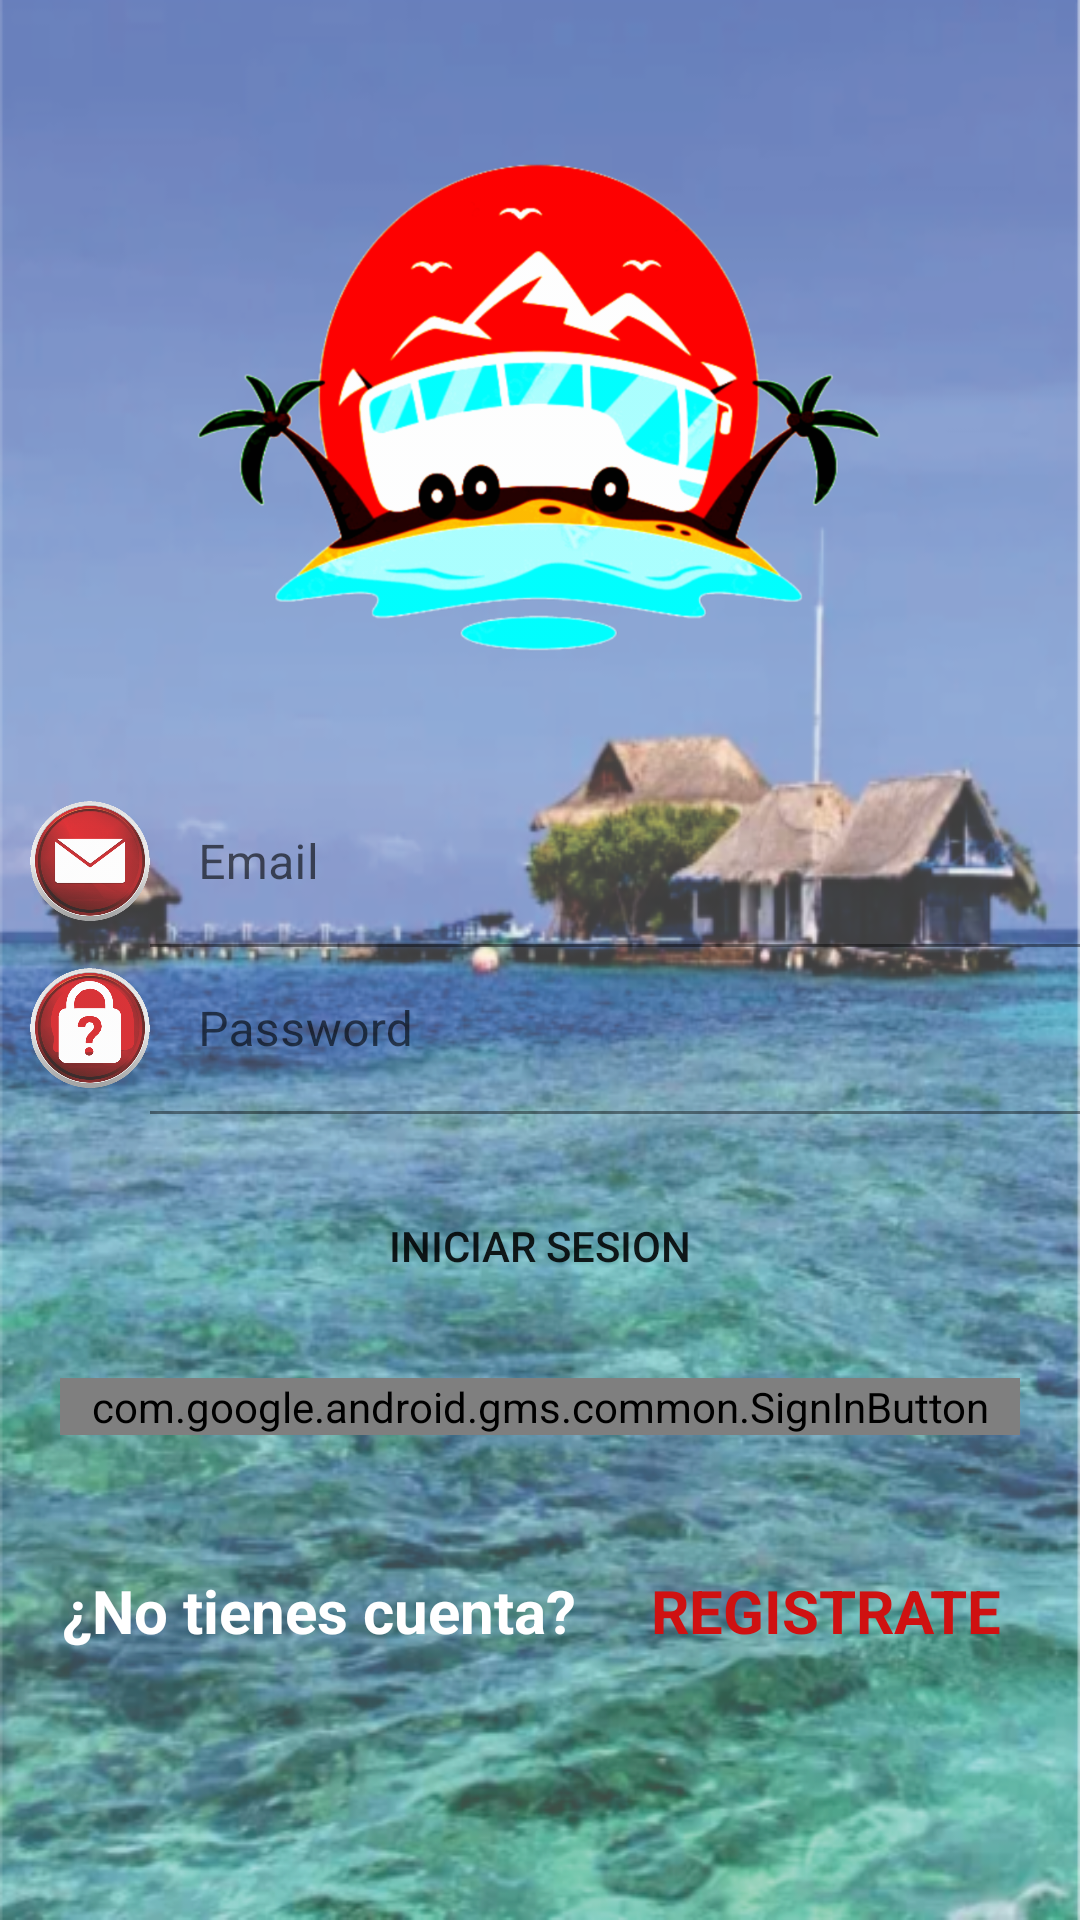

Locate icon controls on the screen. Image size 1080×1920, boxes as (x1, y1, x2, y2).
pasword: (30, 968, 150, 1088)
